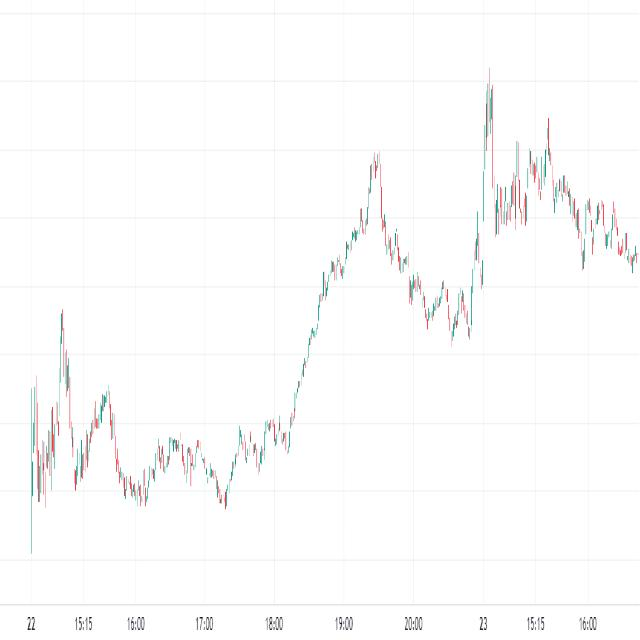Descending-Triangle: (476, 26, 640, 276)
